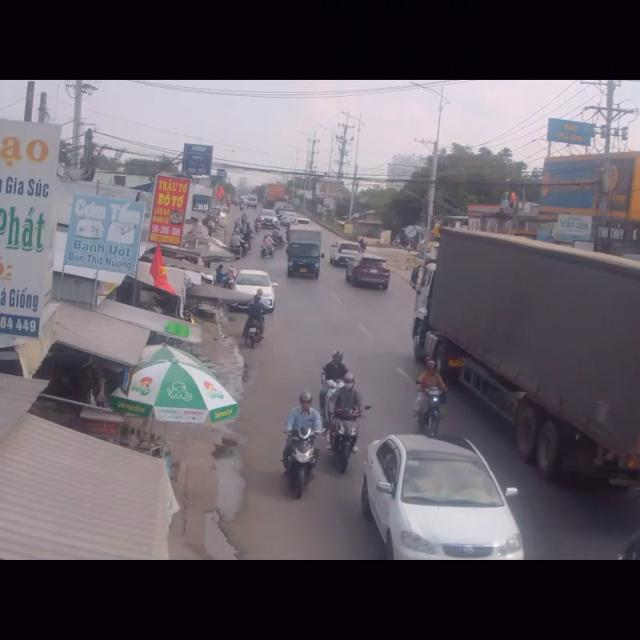car: (361, 437, 537, 564), (236, 270, 277, 311), (347, 254, 390, 289), (332, 239, 362, 267)
motorbike: (279, 392, 320, 504), (329, 379, 362, 480), (412, 364, 447, 444), (323, 350, 343, 398), (245, 295, 263, 348)
truck: (412, 228, 640, 475), (286, 228, 324, 281)
